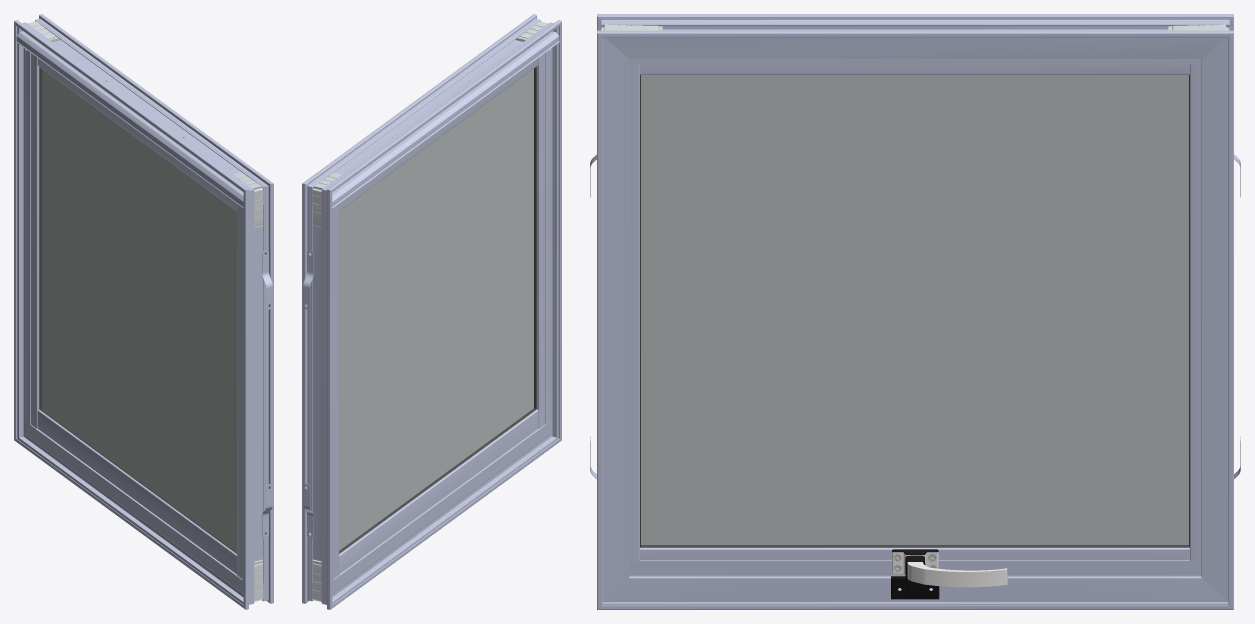
File: asset.gltf
The picture shows the model from 3 angles, left to right: view 1: azimuth 30°, elevation 25°; view 2: azimuth 150°, elevation 25°; view 3: azimuth 270°, elevation 25°; orthographic projection. The views are drawn at different scales.
Parts seen in each view (by area): view 1: Object_36, Object_52, Object_51, Object_49, Object_50, Object_54, Object_55, Object_53, Object_56, Object_34, Object_16, Object_45 (+3 smaller); view 2: Object_36, Object_50, Object_51, Object_34, Object_52, Object_54, Object_55, Object_53, Object_56, Object_49, Object_16, Object_46 (+3 smaller); view 3: Object_36, Object_51, Object_53, Object_50, Object_52, Object_54, Object_16, Object_49, Object_34, Object_21, Object_15, Object_56.
Boxes of the visible parts, box(x1,y1,x2,y2) form: Object_36: box(42, 69, 236, 550); Object_52: box(243, 183, 273, 609); Object_51: box(14, 14, 273, 191); Object_49: box(25, 49, 39, 428); Object_50: box(14, 16, 39, 439); Object_54: box(37, 409, 236, 574); Object_55: box(16, 31, 243, 208); Object_53: box(14, 434, 269, 608); Object_56: box(25, 421, 243, 593); Object_34: box(237, 204, 243, 580); Object_16: box(37, 58, 236, 210); Object_45: box(39, 67, 42, 409); Object_36: box(339, 69, 533, 550); Object_50: box(302, 183, 332, 609); Object_51: box(302, 14, 561, 191); Object_34: box(536, 49, 551, 428); Object_52: box(536, 16, 561, 439); Object_54: box(339, 409, 538, 573); Object_55: box(332, 31, 559, 208); Object_53: box(306, 434, 561, 608); Object_56: box(332, 421, 551, 593); Object_49: box(332, 204, 339, 580); Object_16: box(339, 58, 538, 210); Object_46: box(534, 67, 536, 408); Object_36: box(641, 75, 1188, 544); Object_51: box(597, 14, 1233, 58); Object_53: box(597, 576, 1233, 609); Object_50: box(1201, 16, 1233, 609); Object_52: box(597, 16, 629, 609); Object_54: box(629, 547, 1201, 574); Object_16: box(629, 59, 1201, 74); Object_49: box(1190, 64, 1201, 560); Object_34: box(629, 64, 639, 560); Object_21: box(907, 562, 1007, 587); Object_15: box(640, 545, 1189, 547); Object_56: box(629, 575, 1201, 576).
Size of the model in its own units: 0.0751 by 0.6 by 0.613.
